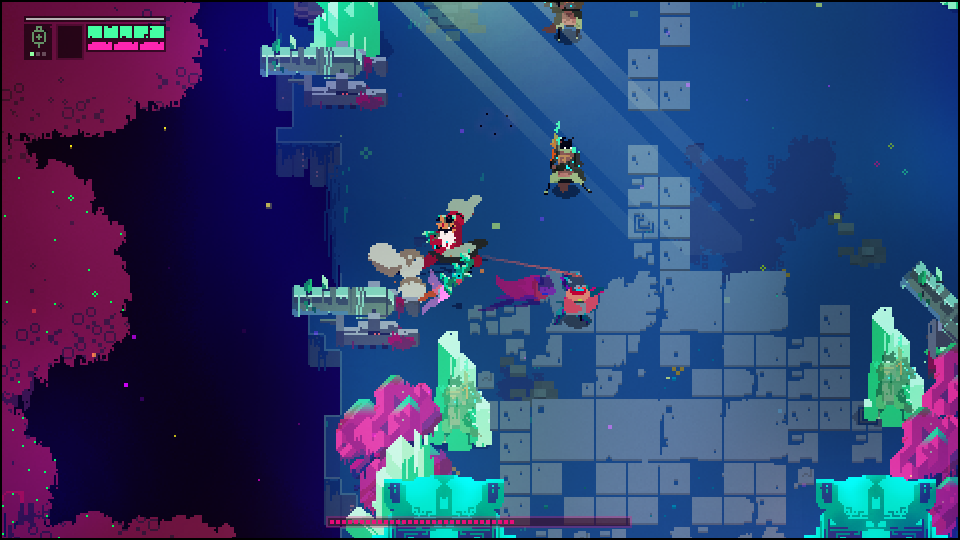hanged_man: (400, 191, 493, 289)
player: (557, 273, 600, 331)
